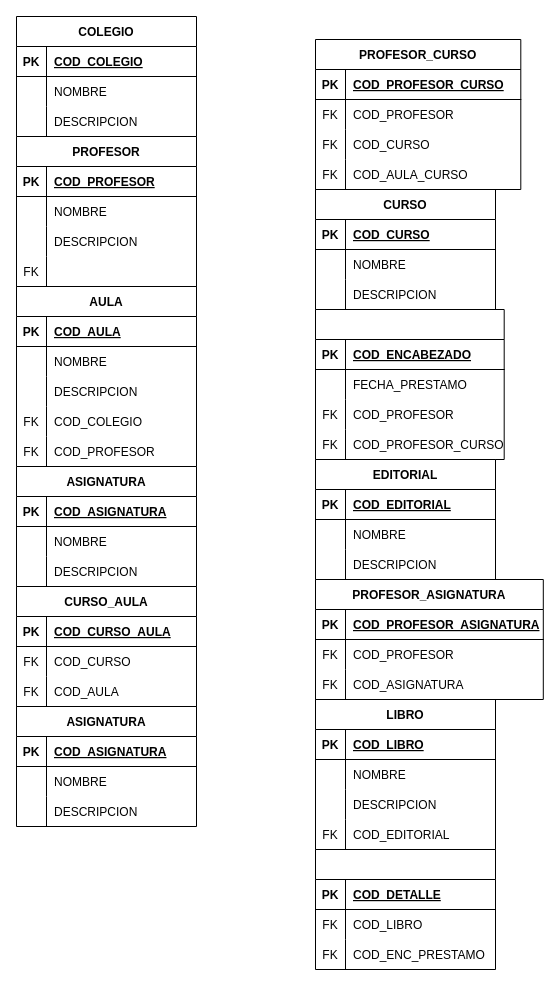
The diagram is 560 pixels wide and 986 high, and some of its shapes have lost their labels. Here are the shapes that lost their labels. From the top down, the box of each, then its label:
(314, 308, 504, 460): ENC_PRESTAMO
(314, 848, 496, 970): DET_PRESTAMO
